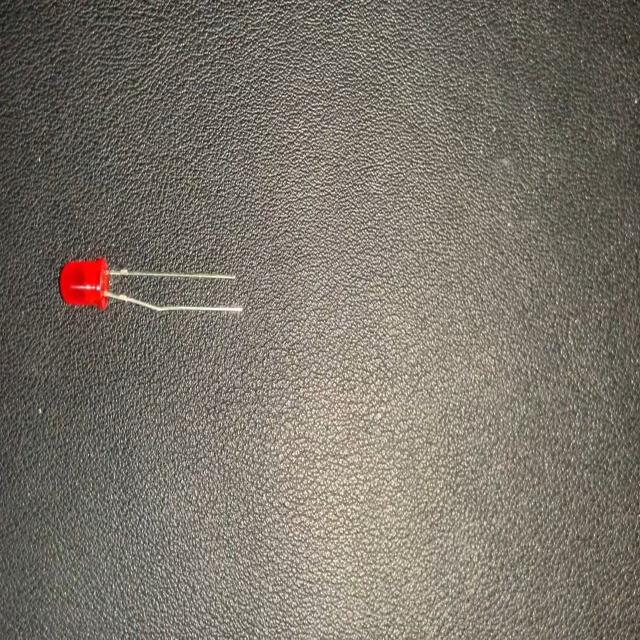LED: (53, 252, 243, 328)
